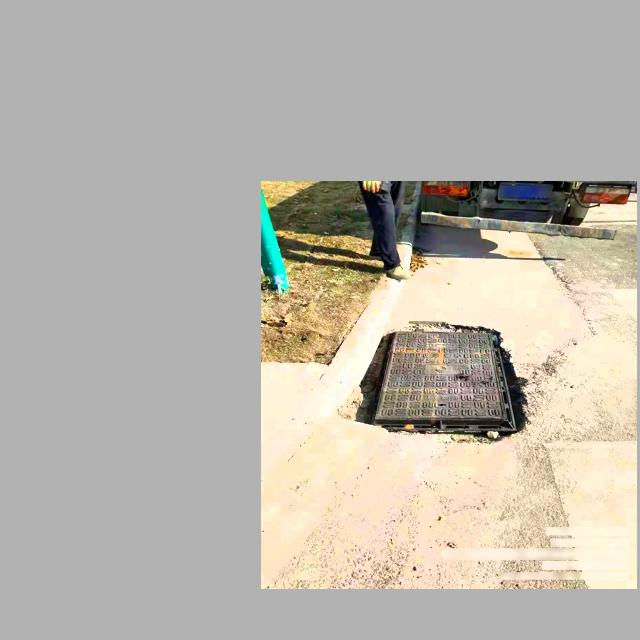circle: (353, 325, 528, 439)
